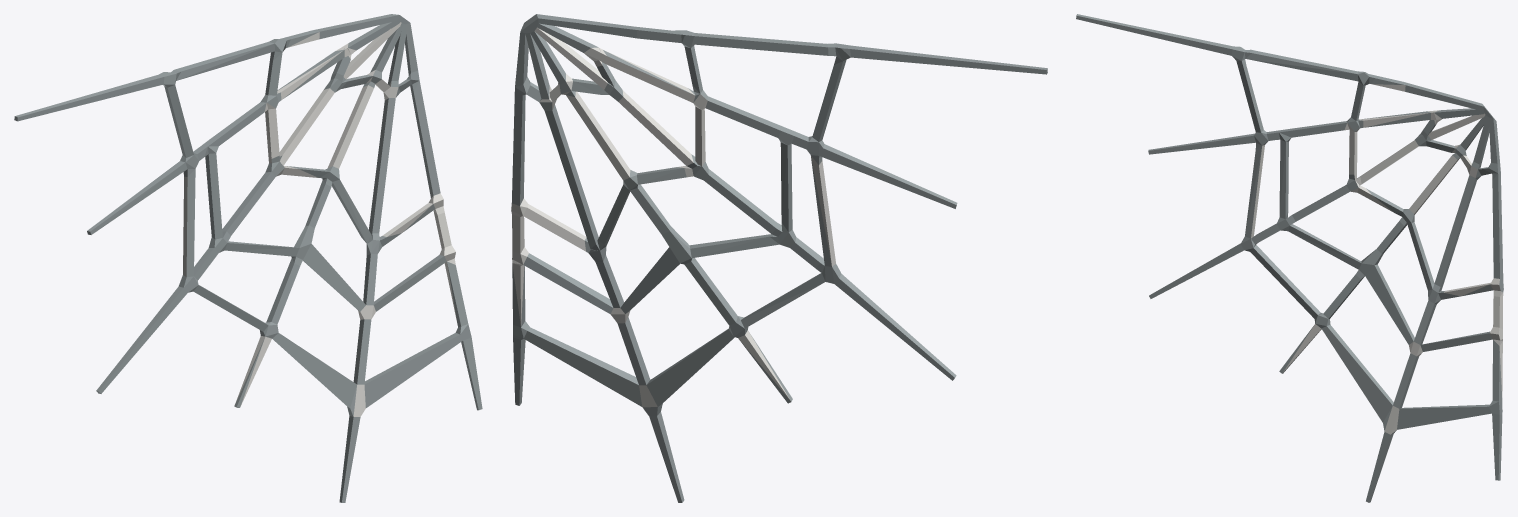
File: WF_LP_HT_Environment_SpiderWeb.001.fbx
3 views of the same model, side by side, from view 1: azimuth 30°, elevation 25°; view 2: azimuth 150°, elevation 25°; view 3: azimuth 330°, elevation 25° (orthographic). The views are drawn at different scales.
Parts seen in each view (by area): view 1: WF_LP_HT_Environment_SpiderWeb.001; view 2: WF_LP_HT_Environment_SpiderWeb.001; view 3: WF_LP_HT_Environment_SpiderWeb.001.
Boxes of the visible parts, x1,y1,x2,y2 form: WF_LP_HT_Environment_SpiderWeb.001: [14, 14, 482, 502]; WF_LP_HT_Environment_SpiderWeb.001: [511, 14, 1047, 502]; WF_LP_HT_Environment_SpiderWeb.001: [1076, 14, 1503, 502].
Size of the model in its own units: 1.1 by 1.04 by 0.1635.
